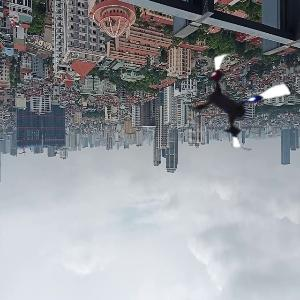drone: (188, 48, 294, 154)
